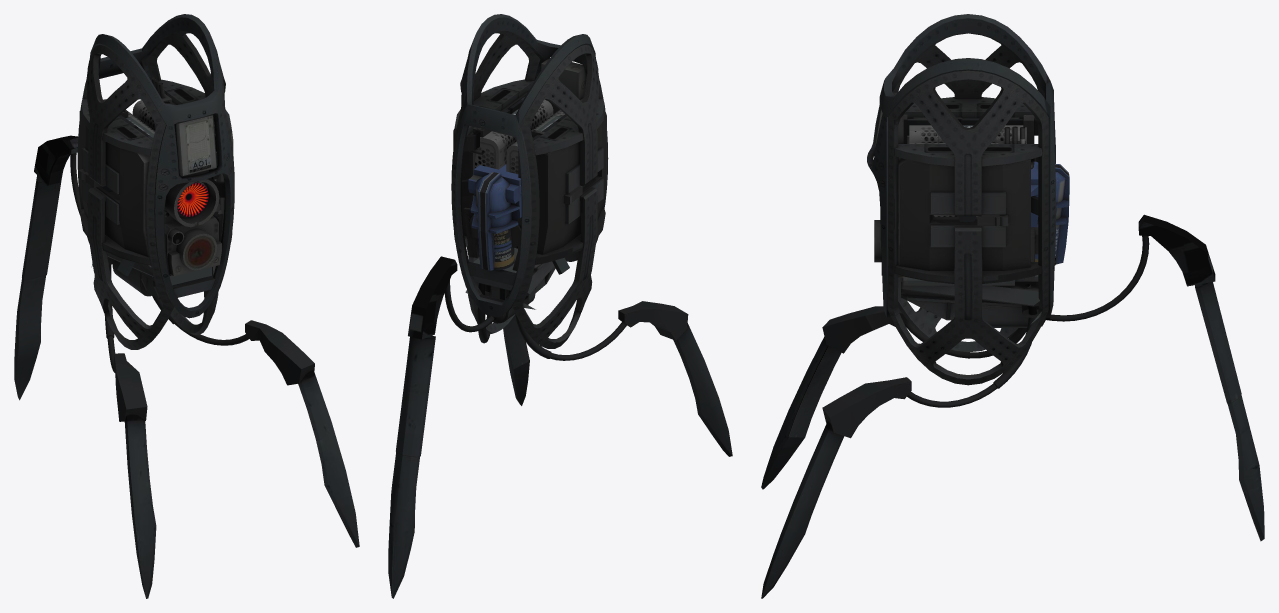
Rendered from turret-defective.glb.
3 views of the same model, side by side, from view 1: azimuth 30°, elevation 25°; view 2: azimuth 150°, elevation 25°; view 3: azimuth 270°, elevation 25° (orthographic). The views are drawn at different scales.
Parts seen in each view (by area): view 1: turret_skeleton_model; view 2: turret_skeleton_model; view 3: turret_skeleton_model.
Boxes of the visible parts, x1,y1,x2,y2 form: turret_skeleton_model: (14, 14, 359, 598); turret_skeleton_model: (388, 14, 732, 598); turret_skeleton_model: (761, 14, 1264, 598).
Bounding box in the file's own units: 0.4754 × 1 × 0.8985.
Materials: 4 (4 with a texture image).
